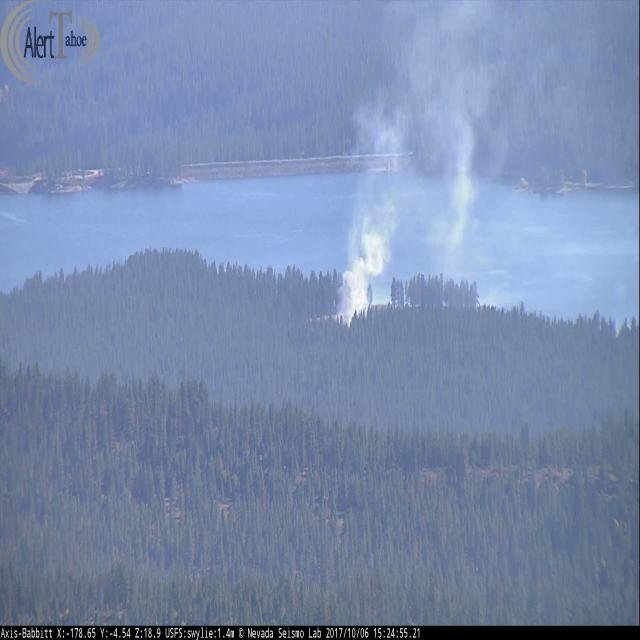smoke: (317, 0, 582, 324)
